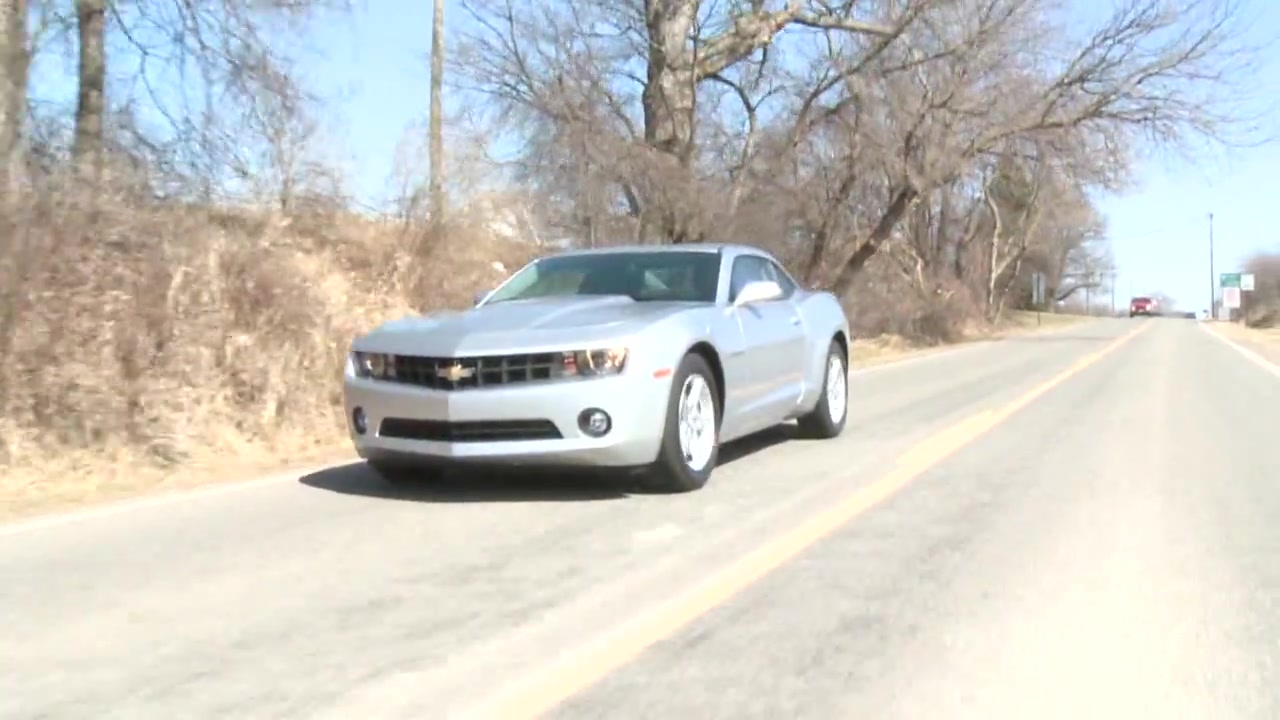car: (342, 245, 854, 496)
